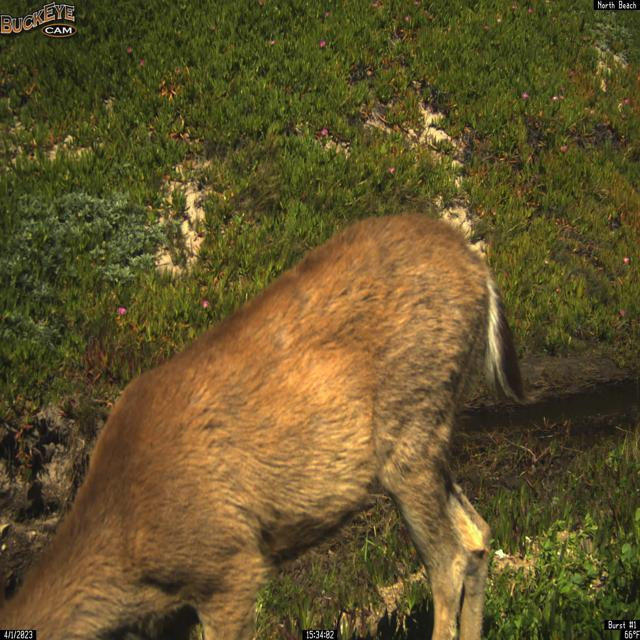deer: (0, 211, 533, 639)
